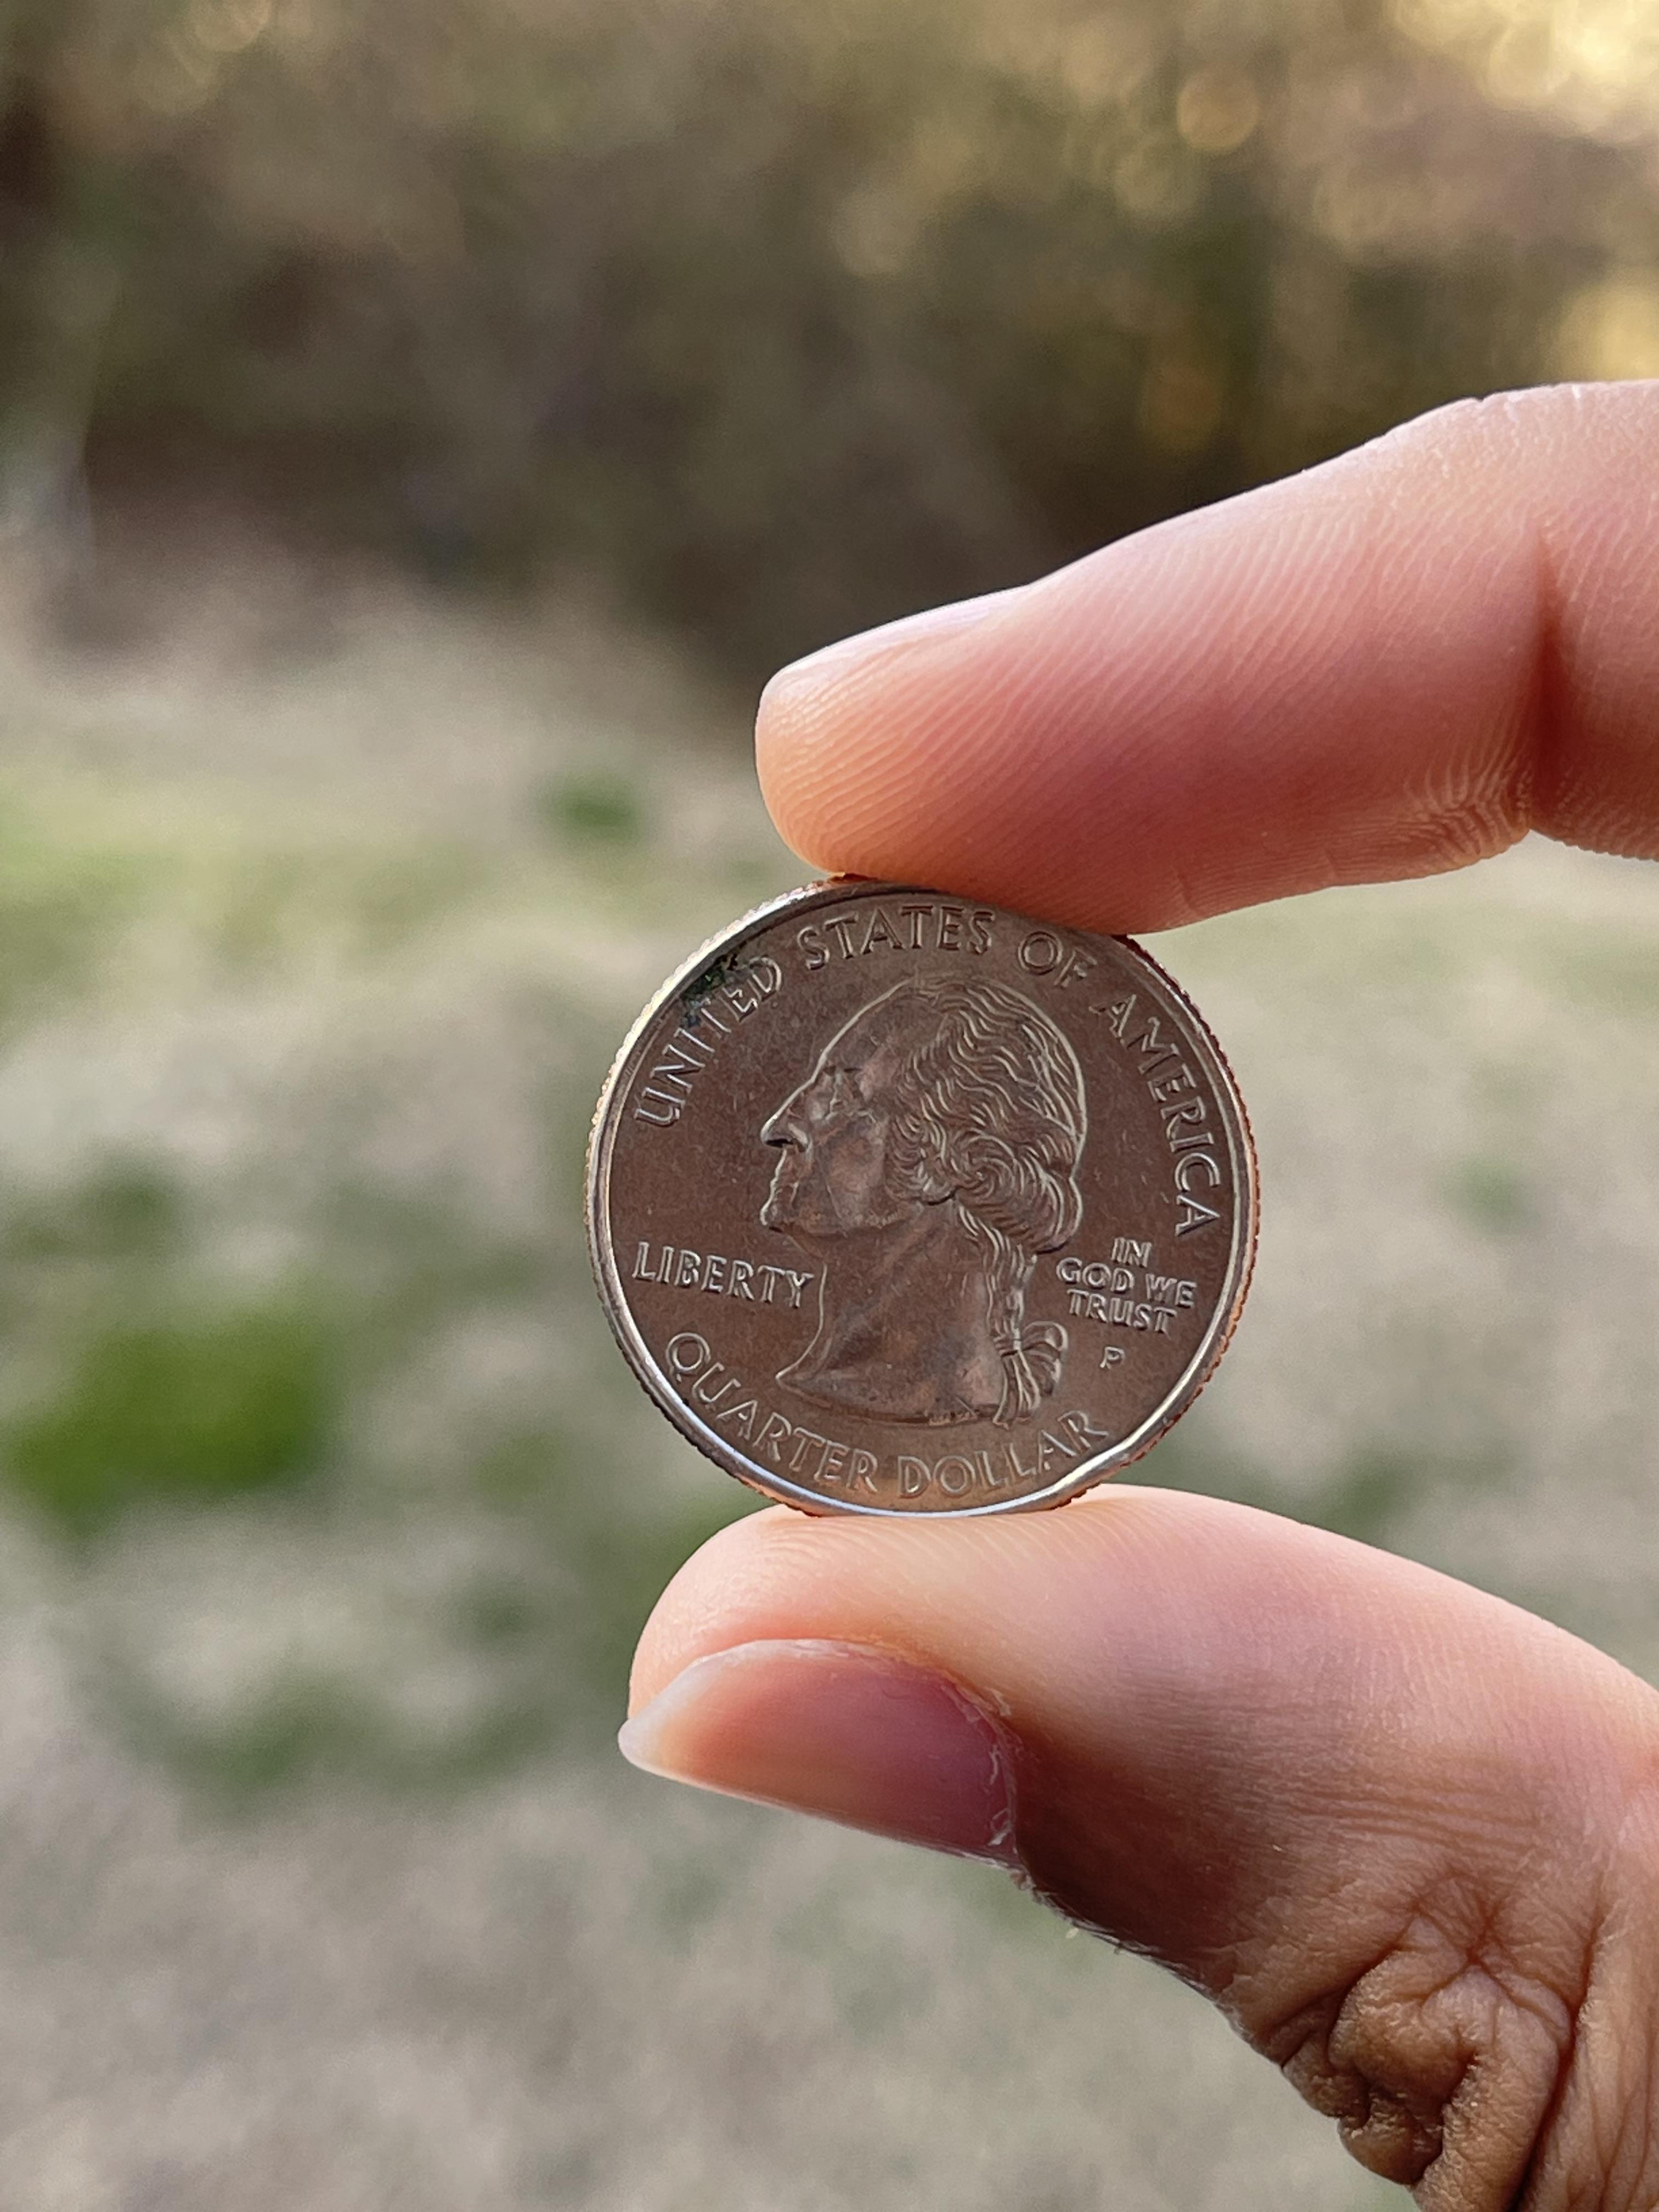Quarter: (579, 873, 1267, 1521)
